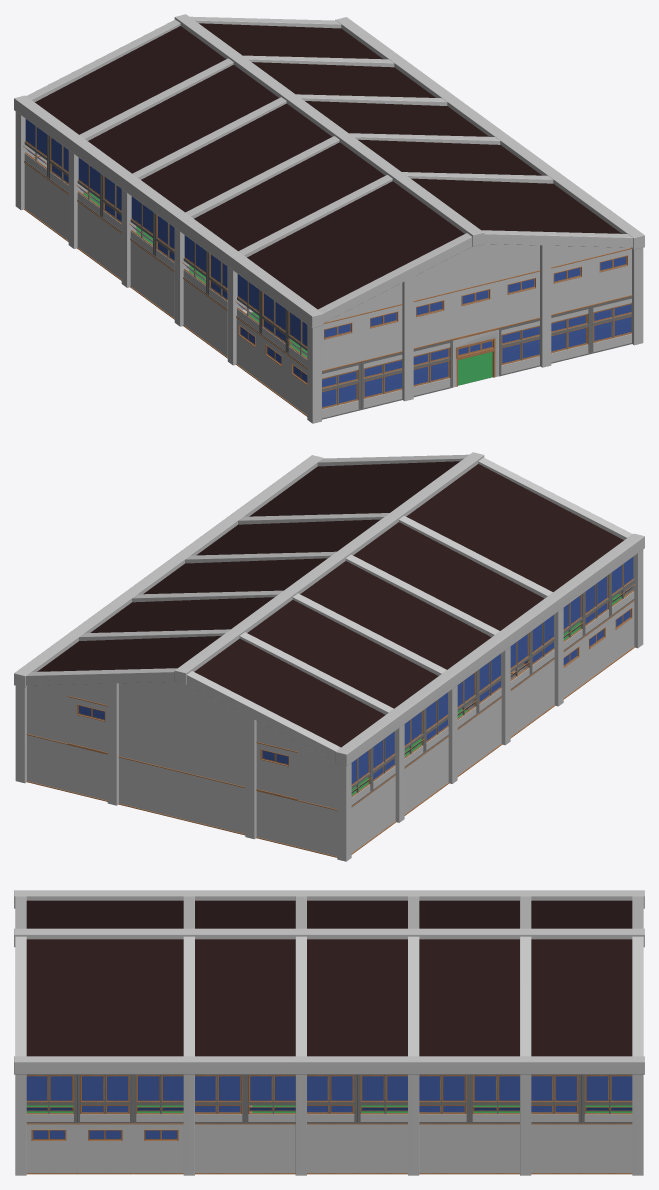
The model's file is SM_gymnasium_building.fbx.
3 views of the same model, one above another, from view 1: azimuth 30°, elevation 25°; view 2: azimuth 150°, elevation 25°; view 3: azimuth 270°, elevation 25° (orthographic). The views are drawn at different scales.
Visible parts, largest first — view 1: gymnasium_building; view 2: gymnasium_building; view 3: gymnasium_building.
Boxes of the visible parts, x1=… form: gymnasium_building: x1=14, y1=14, x2=644, y2=423; gymnasium_building: x1=14, y1=452, x2=644, y2=861; gymnasium_building: x1=14, y1=890, x2=644, y2=1175.
Bounding box in the file's own units: 1142 × 492 × 1772.
